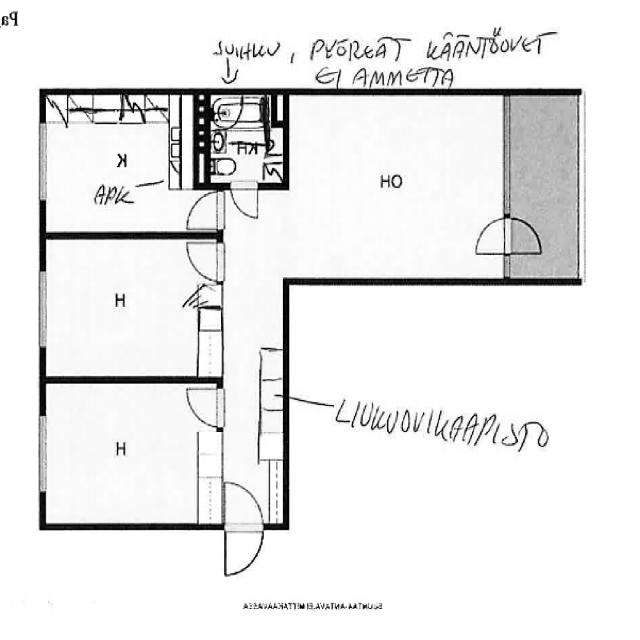door: (281, 90, 509, 286), (38, 382, 219, 532), (45, 238, 222, 386), (44, 90, 215, 238), (193, 91, 286, 187)
window: (30, 114, 54, 213), (34, 262, 51, 352), (34, 415, 48, 496)
zone: (219, 476, 267, 584), (466, 216, 553, 258), (184, 381, 231, 428), (181, 235, 229, 281), (172, 194, 224, 234), (224, 180, 264, 220)
